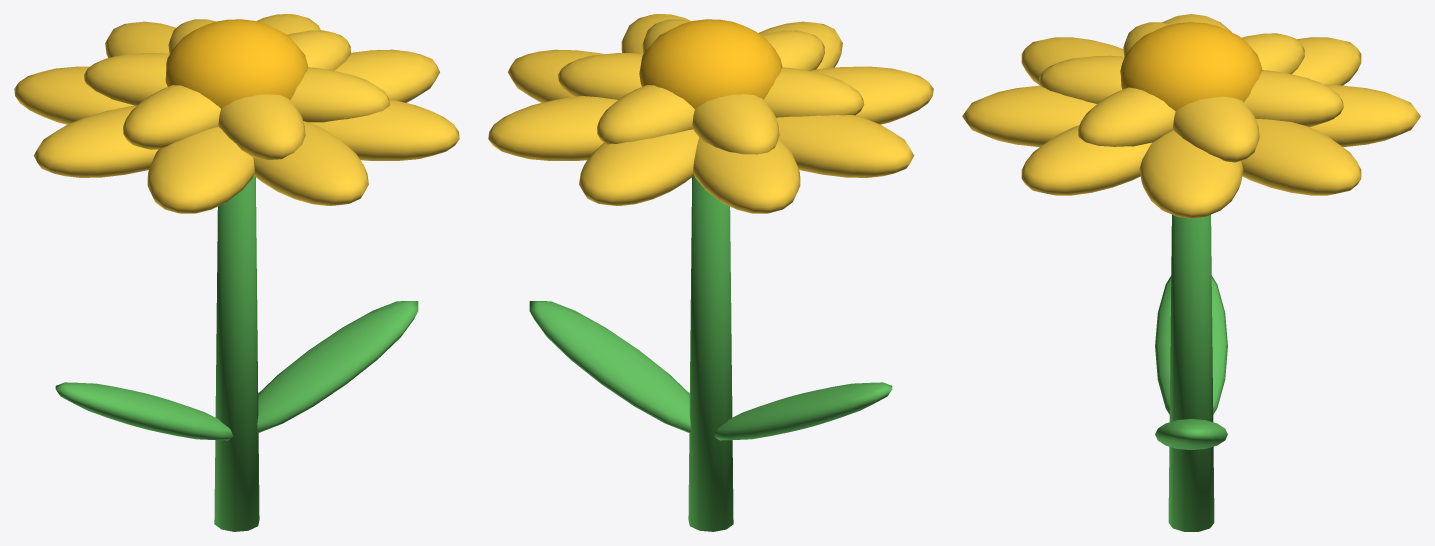
The model's file is flower_yellow.glb.
3 renders of one model, left to right at view 1: azimuth 30°, elevation 25°; view 2: azimuth 150°, elevation 25°; view 3: azimuth 270°, elevation 25°, orthographic.
Visible parts, largest first — view 1: flower_yellow; view 2: flower_yellow; view 3: flower_yellow.
Part boxes in pixels (<box>): flower_yellow: <box>14,14,459,531</box>; flower_yellow: <box>488,14,933,531</box>; flower_yellow: <box>962,14,1420,531</box>.
Bounding box in the file's own units: 0.44 × 0.52 × 0.44.
